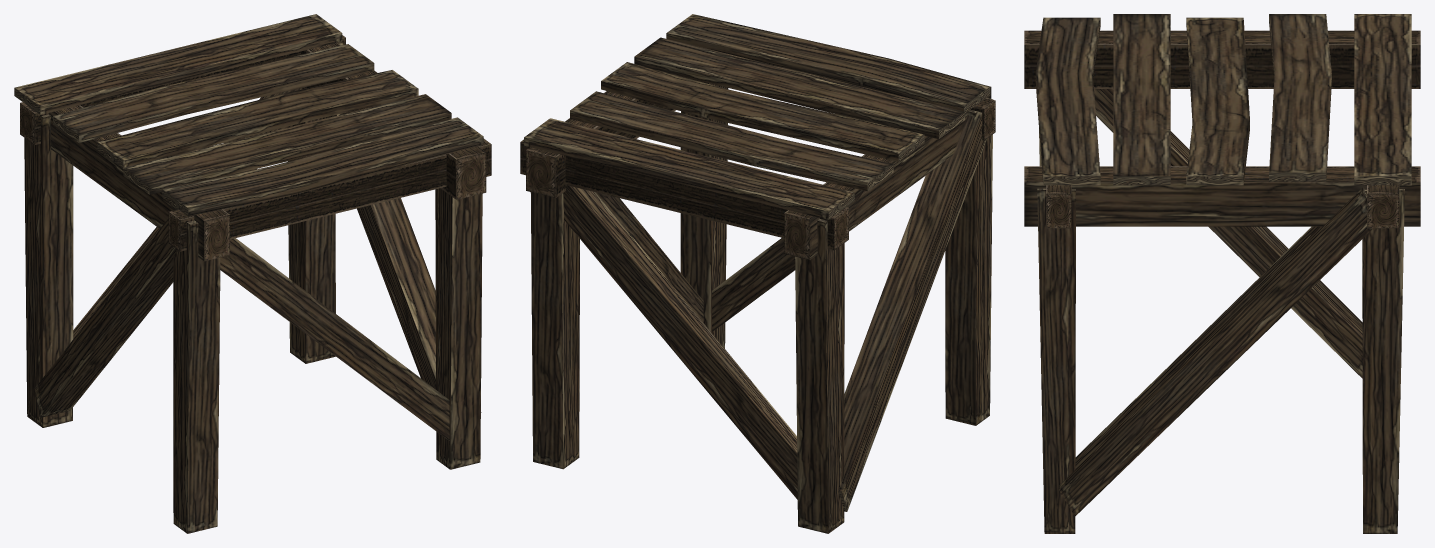
The model's file is Wood_4X4X4_01.fbx.
3 renders of one model, left to right at view 1: azimuth 30°, elevation 25°; view 2: azimuth 150°, elevation 25°; view 3: azimuth 270°, elevation 25°, orthographic. The views are drawn at different scales.
Parts seen in each view (by area): view 1: Wood_4X4X4_01; view 2: Wood_4X4X4_01; view 3: Wood_4X4X4_01.
Part boxes in pixels (x1,y1,x2,y2): Wood_4X4X4_01: (14,14,491,533); Wood_4X4X4_01: (520,14,995,533); Wood_4X4X4_01: (1024,14,1420,533).
Bounding box in the file's own units: 4 × 4 × 4.
